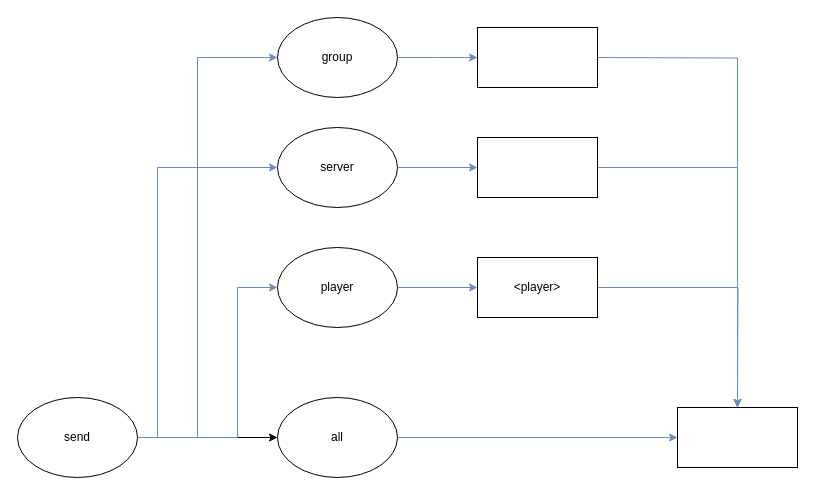
This 815x495 diagram has some shape labels left out. Each missing label, with the centre of its shape:
"<group-name>" goes at (537,57).
"<server-name>" goes at (537,167).
"<server>" goes at (737,437).
